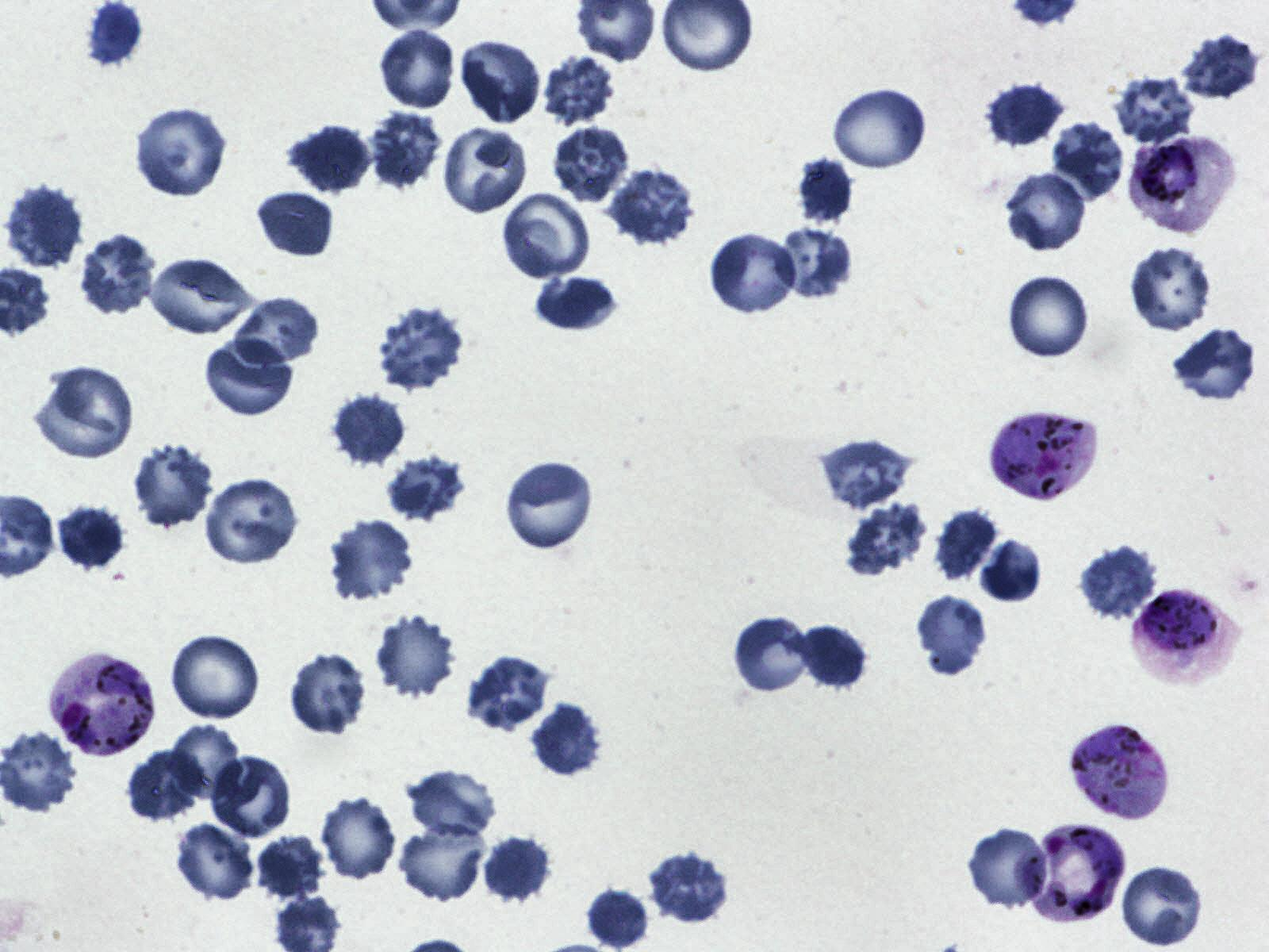Infected: (56, 654, 155, 758), (1021, 827, 1125, 926), (991, 405, 1096, 502), (1129, 134, 1229, 235), (1072, 724, 1168, 823), (1129, 586, 1227, 680)
Uninfected: (491, 192, 596, 282), (36, 367, 134, 462), (146, 254, 254, 338), (832, 85, 932, 174), (133, 106, 228, 198), (205, 475, 301, 566), (167, 631, 263, 721), (506, 459, 594, 553), (442, 124, 533, 213), (1129, 244, 1216, 336), (763, 225, 864, 301), (709, 232, 799, 317), (318, 793, 401, 884), (204, 335, 293, 419), (131, 441, 214, 531), (1007, 274, 1091, 362), (967, 824, 1051, 912), (327, 517, 412, 603), (174, 817, 258, 904), (374, 610, 457, 698), (459, 37, 541, 125), (817, 433, 914, 507), (209, 755, 293, 840), (401, 825, 490, 904), (405, 769, 500, 843), (1118, 866, 1204, 947), (375, 309, 463, 388), (232, 295, 320, 374), (287, 651, 370, 734), (1003, 172, 1089, 252), (1171, 323, 1259, 401), (78, 232, 158, 317), (838, 501, 931, 574), (607, 167, 692, 245), (379, 28, 458, 110), (365, 106, 444, 188), (165, 722, 243, 805), (288, 119, 373, 195), (1079, 542, 1160, 620), (734, 614, 812, 695), (551, 125, 629, 206), (469, 652, 550, 730), (1050, 121, 1125, 205), (1114, 71, 1196, 147), (916, 594, 988, 679), (523, 700, 600, 779), (126, 746, 206, 822), (5, 186, 78, 269), (256, 187, 337, 261), (649, 851, 730, 924), (1181, 32, 1263, 103), (537, 53, 618, 123), (484, 828, 553, 910), (535, 271, 620, 336), (335, 391, 406, 467), (789, 620, 866, 689), (255, 831, 328, 903), (793, 150, 861, 226), (934, 505, 1000, 583), (56, 500, 125, 574), (984, 84, 1063, 148), (380, 453, 460, 516), (975, 536, 1044, 605), (588, 885, 651, 952), (88, 0, 144, 65)
